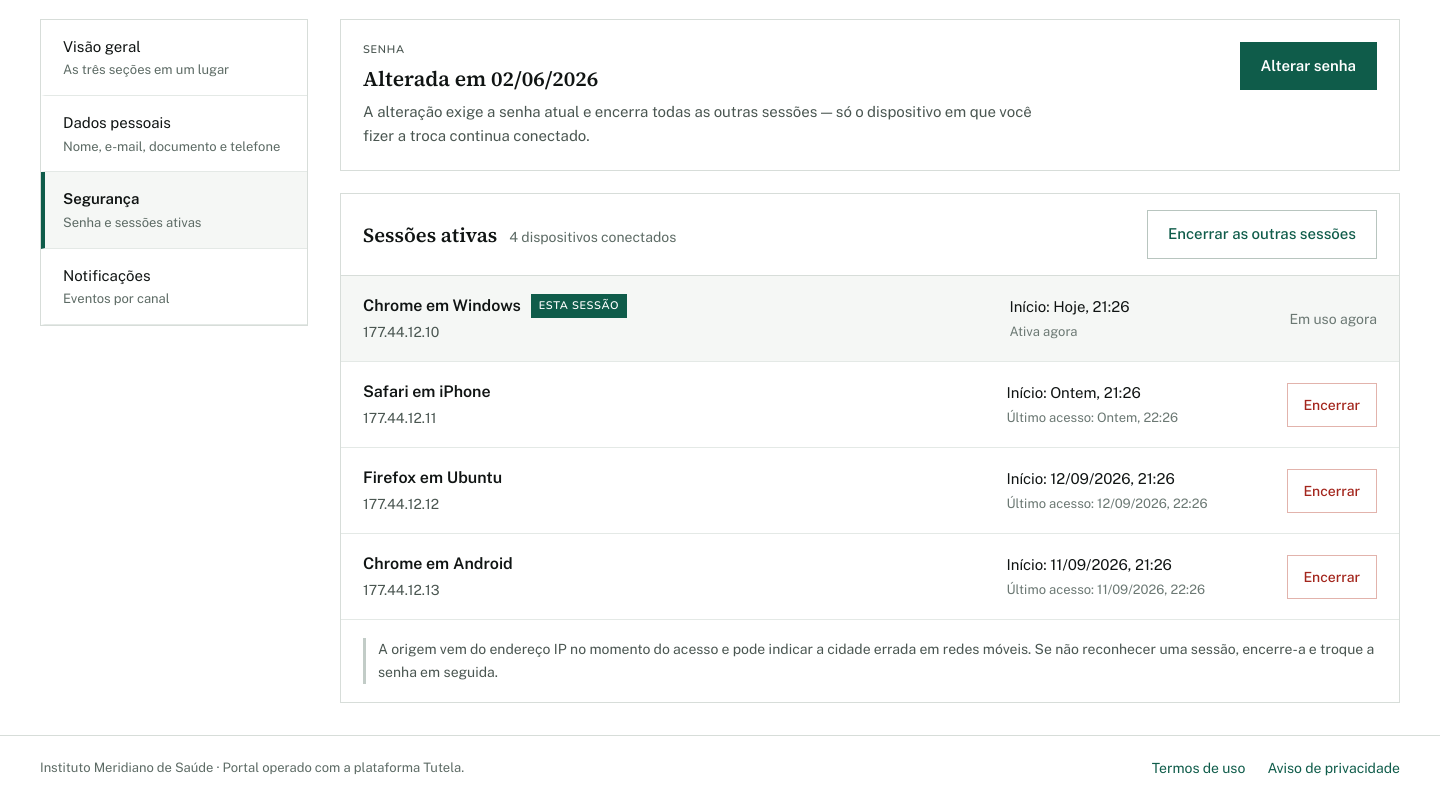
Segurança › encerra uma sessão de outro aparelho
(page scrolled)
Step 1. Click the button "Encerrar" in the row of "Chrome em Android" → point(1333, 577), box [1287, 555, 1378, 599]
(page scrolled)
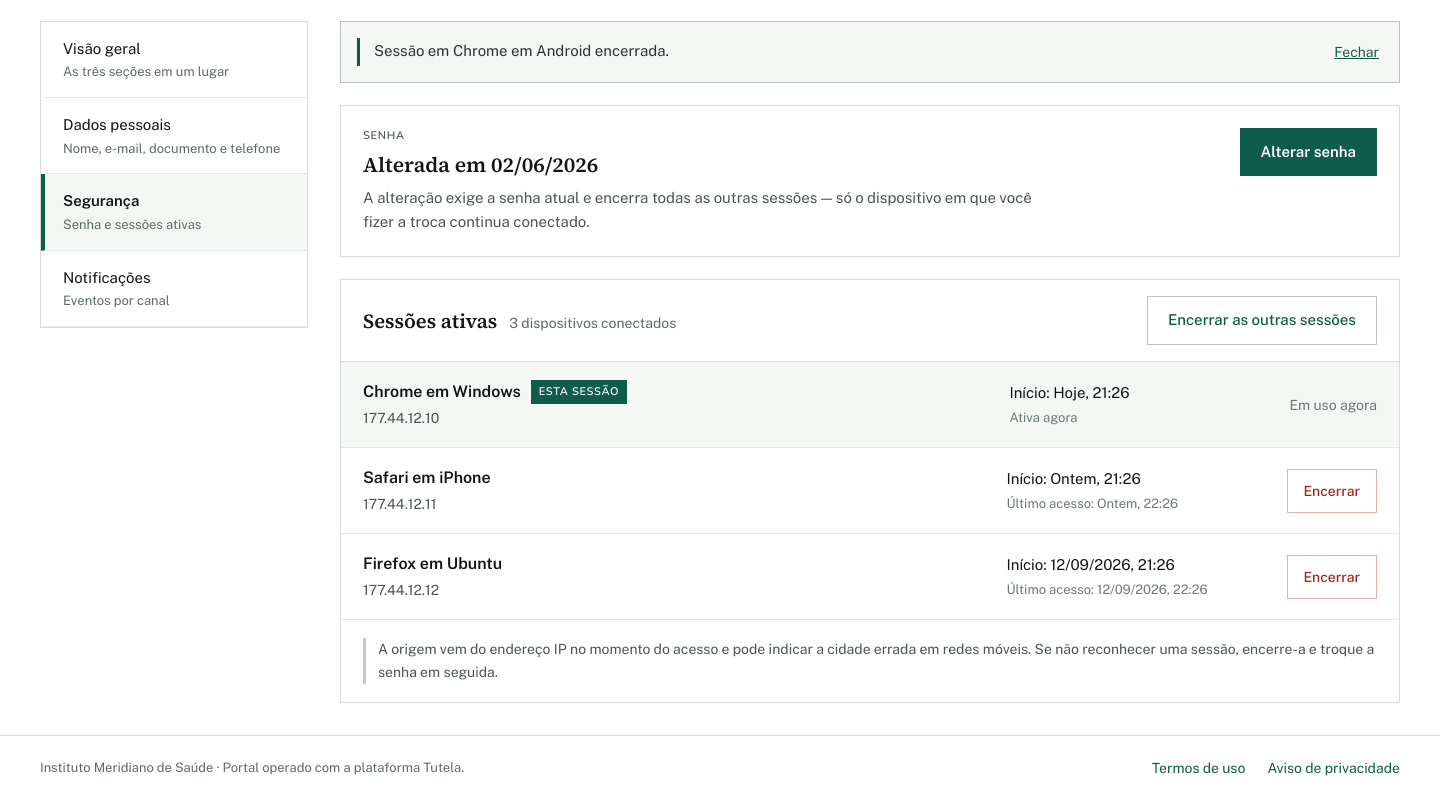
Check: the text "Sessão em Chrome em Android encerrada." is shown, box [374, 42, 669, 59]
Check: the text "3 dispositivos conectados" is shown, box [509, 313, 676, 333]
